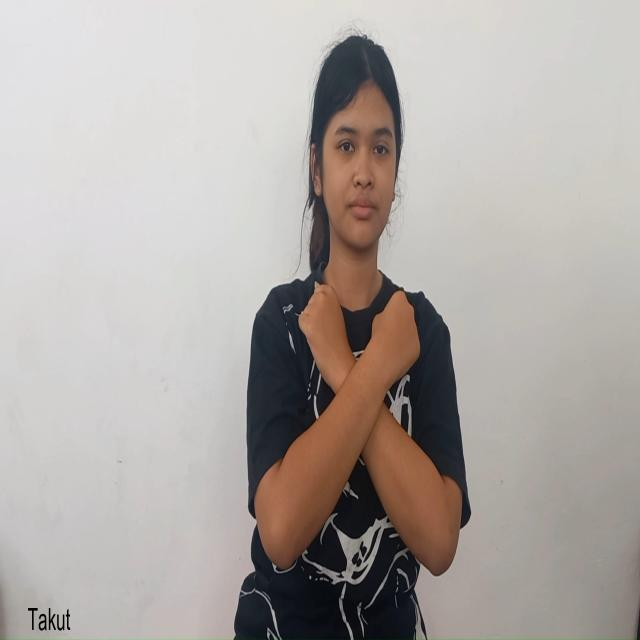Takut -BISINDO-: (276, 280, 462, 578)
